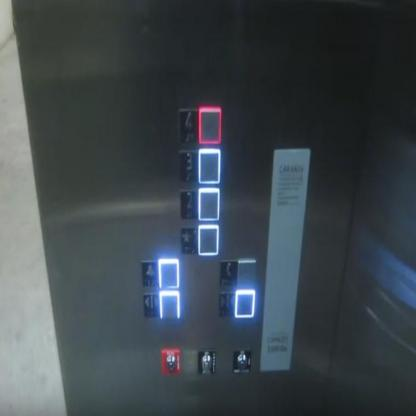2: (179, 187, 199, 221)
3: (177, 148, 198, 182)
4: (177, 106, 198, 144)
alarm: (140, 259, 158, 289)
bt_keyhole: (232, 345, 251, 377), (160, 347, 180, 377), (197, 347, 216, 378)
call: (219, 258, 238, 289)
close: (218, 289, 236, 320)
empty: (197, 146, 221, 186), (198, 105, 221, 144), (198, 185, 220, 221), (158, 290, 180, 323), (197, 222, 218, 256), (236, 258, 257, 291), (234, 286, 255, 319), (158, 256, 178, 290)
open: (142, 292, 158, 319)
s1: (179, 226, 199, 257)
